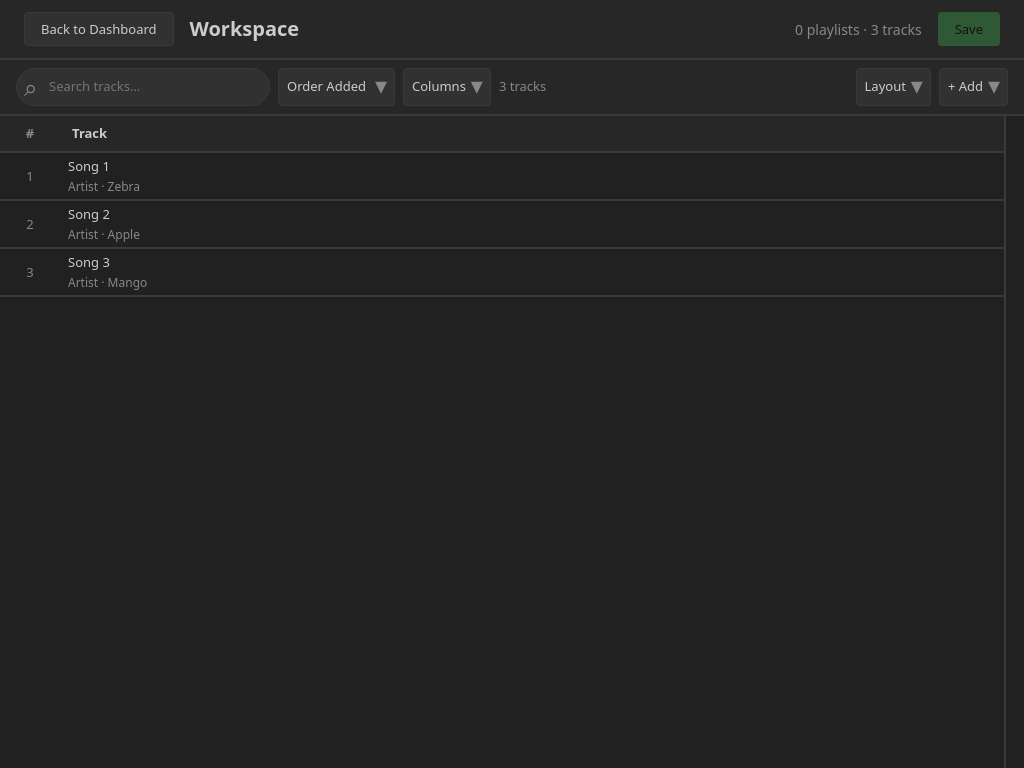
Scenario: WorkspaceView › sort options › selecting album sort orders rows by album name
Select "Album" in the 1st dropdown with class "dropdown": {"x": 336, "y": 87} [278,68,395,106]
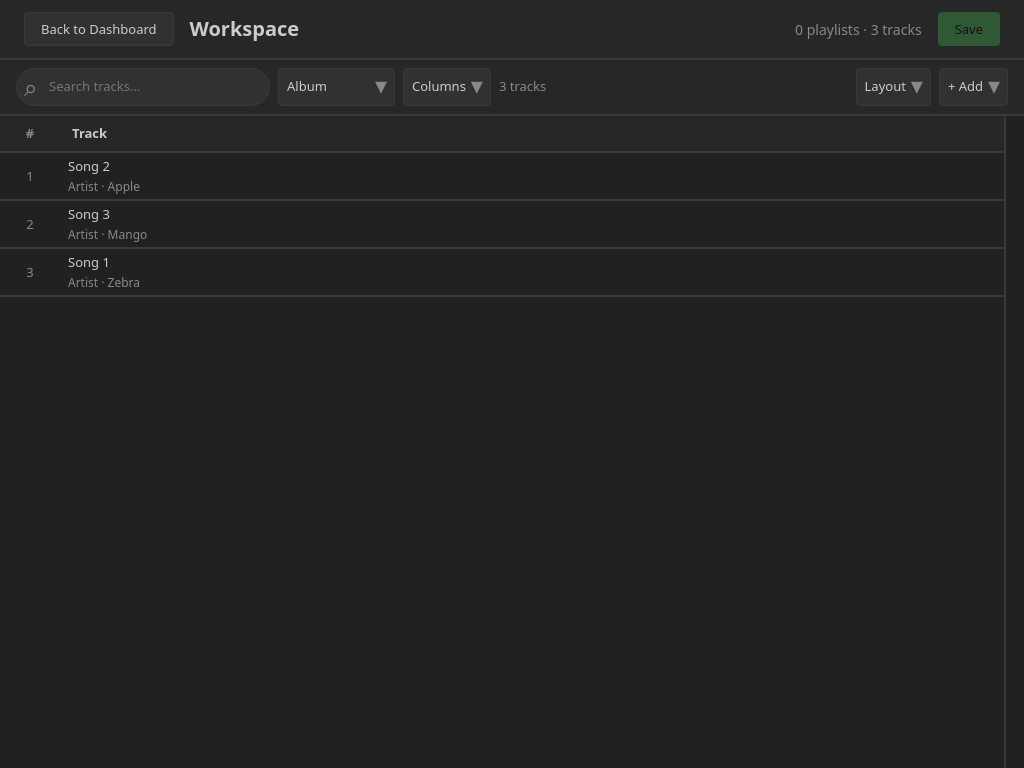
Expected: the elements with class "track-row__title" read "Song 2", "Song 3", "Song 1", in this order, [68,156,110,174]; [68,204,110,222]; [68,252,110,270]
